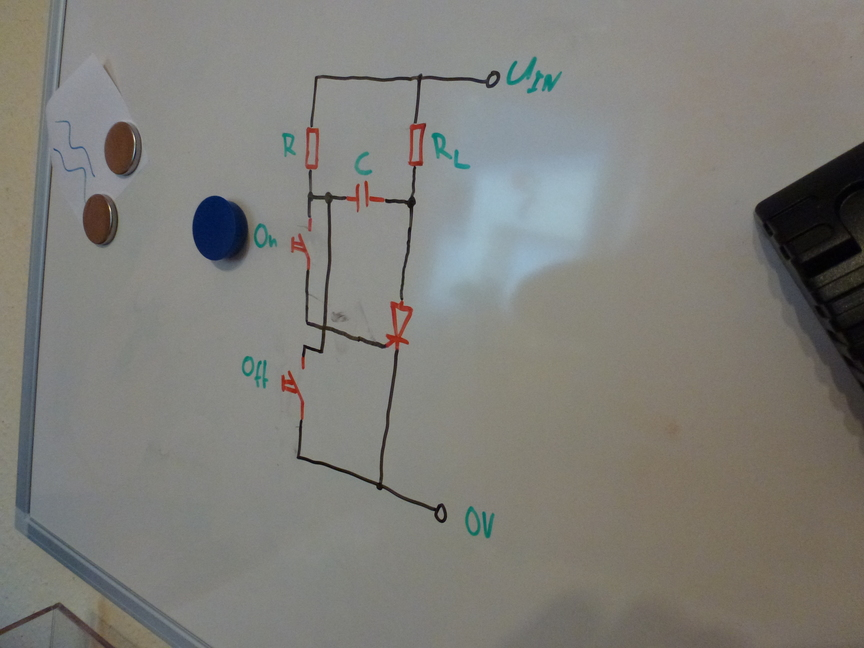capacitor.unpolarized: (349, 180, 378, 213)
crossover: (319, 322, 330, 334)
junction: (405, 195, 417, 210), (323, 191, 335, 205), (374, 479, 385, 493), (414, 72, 426, 84), (306, 191, 315, 203), (312, 73, 322, 83), (301, 342, 310, 353), (317, 346, 326, 356), (294, 452, 303, 462), (303, 317, 310, 327)
resistor: (407, 122, 427, 168), (304, 124, 321, 171)
switch: (281, 357, 305, 419), (290, 218, 315, 269)
terminal: (484, 69, 502, 90), (432, 502, 448, 524)
text: (505, 55, 563, 95), (431, 132, 471, 170), (464, 505, 495, 539), (241, 355, 269, 389), (253, 222, 278, 249), (353, 151, 374, 176), (281, 131, 297, 158)
thyristor: (385, 300, 413, 350)
